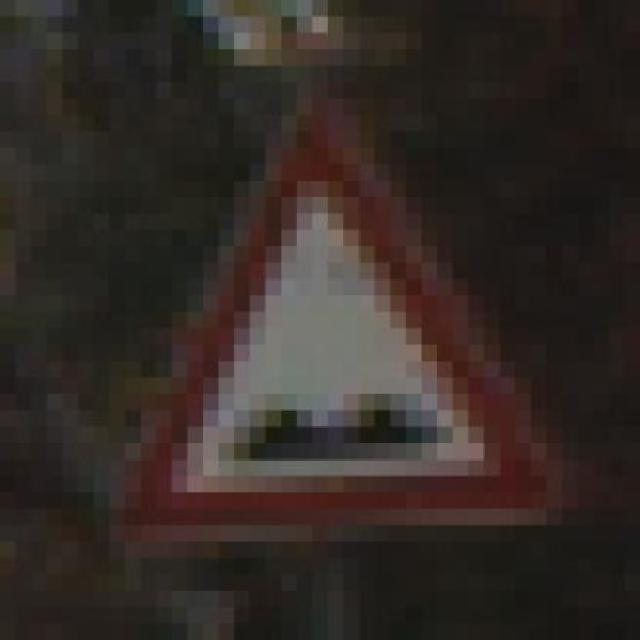Uneven Road: (108, 81, 578, 558)
